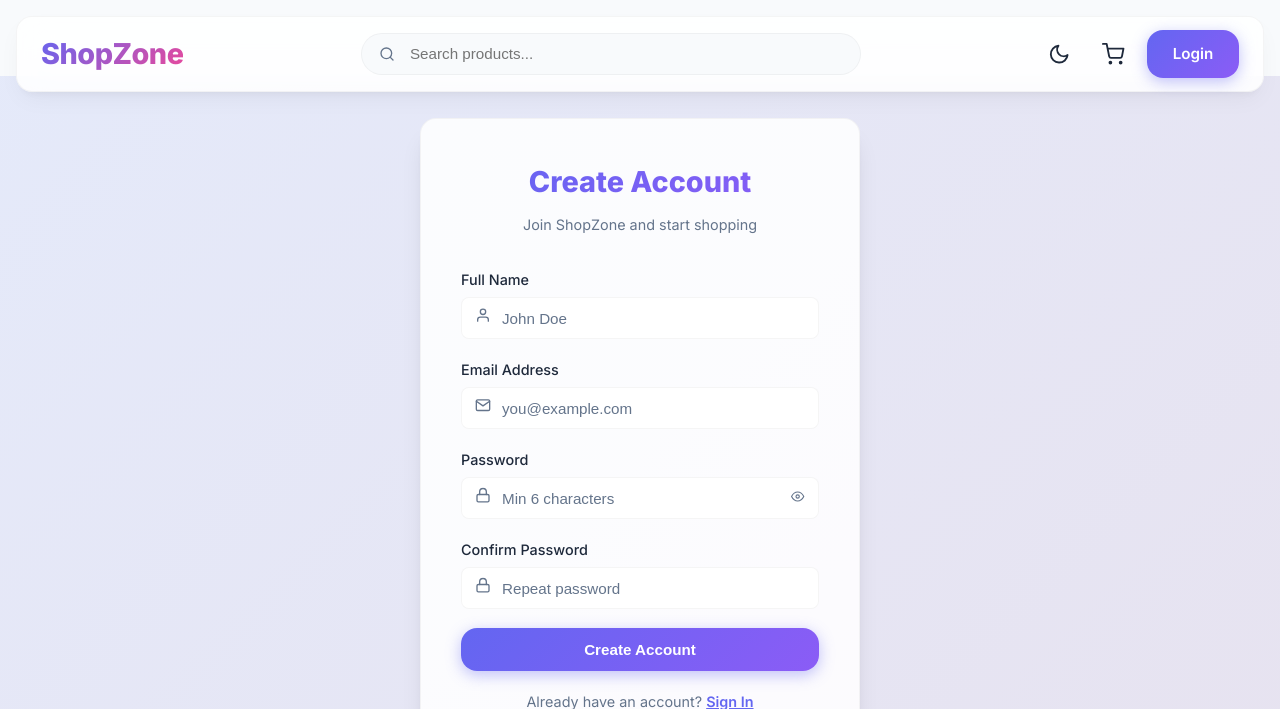
Scenario: Authentication Tests › Registration › should show error when passwords do not match
Type "Test User" into the field with test id "name-input".
click(640, 319); type("Test User")  # box [461,298,819,339]
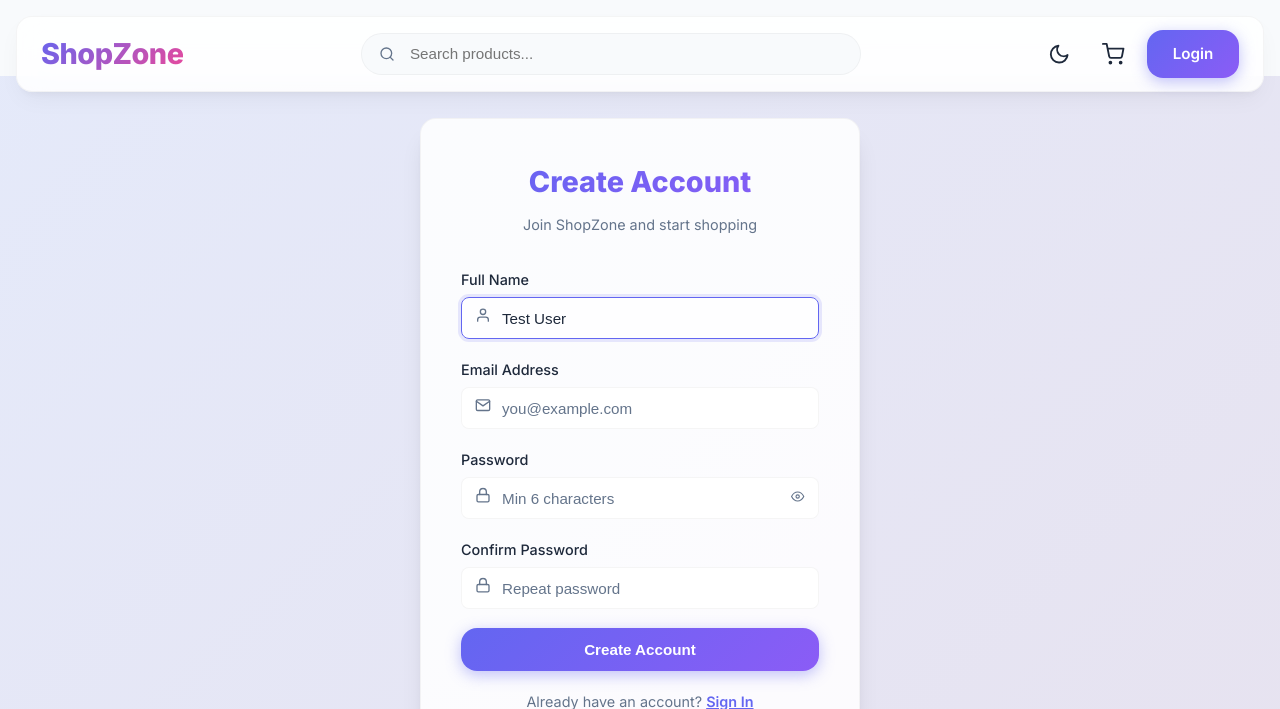
Type "test@example.com" into the field with test id "email-input".
click(640, 409); type("test@example.com")  # box [461,388,819,429]
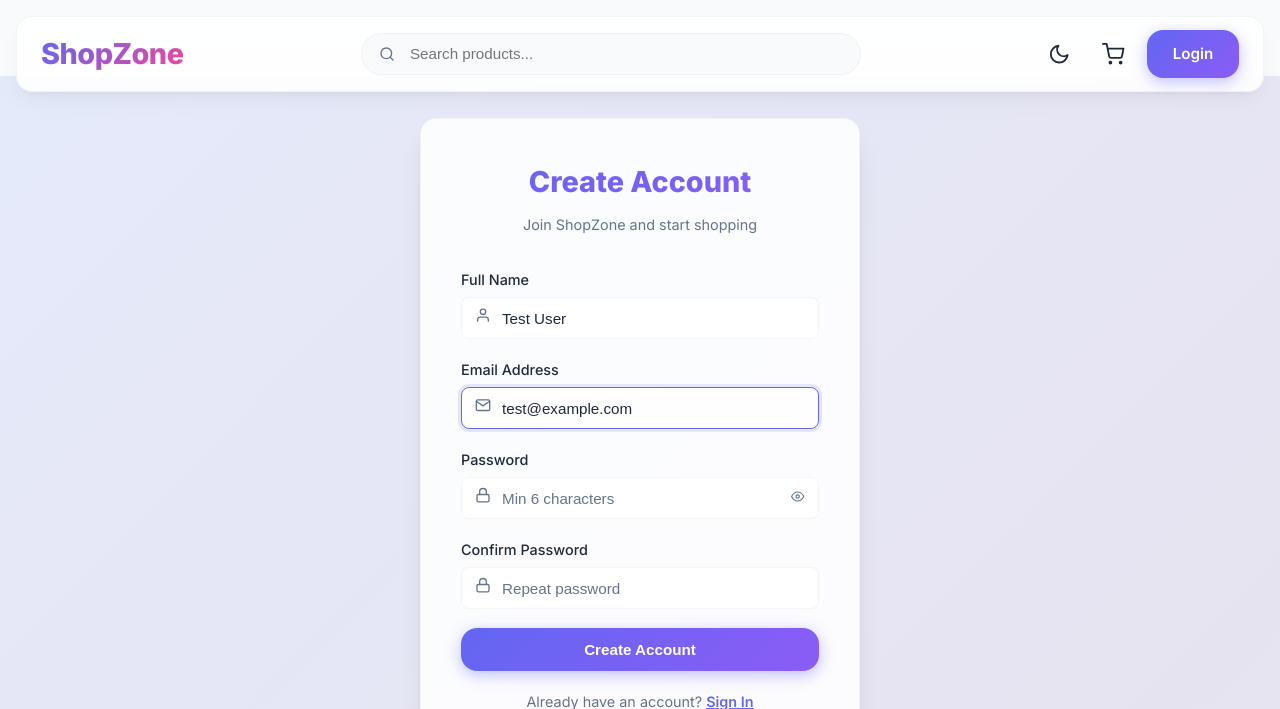
Type "Test@123" into the password field with test id "password-input".
click(640, 499); type("Test@123")  # box [461,478,819,519]
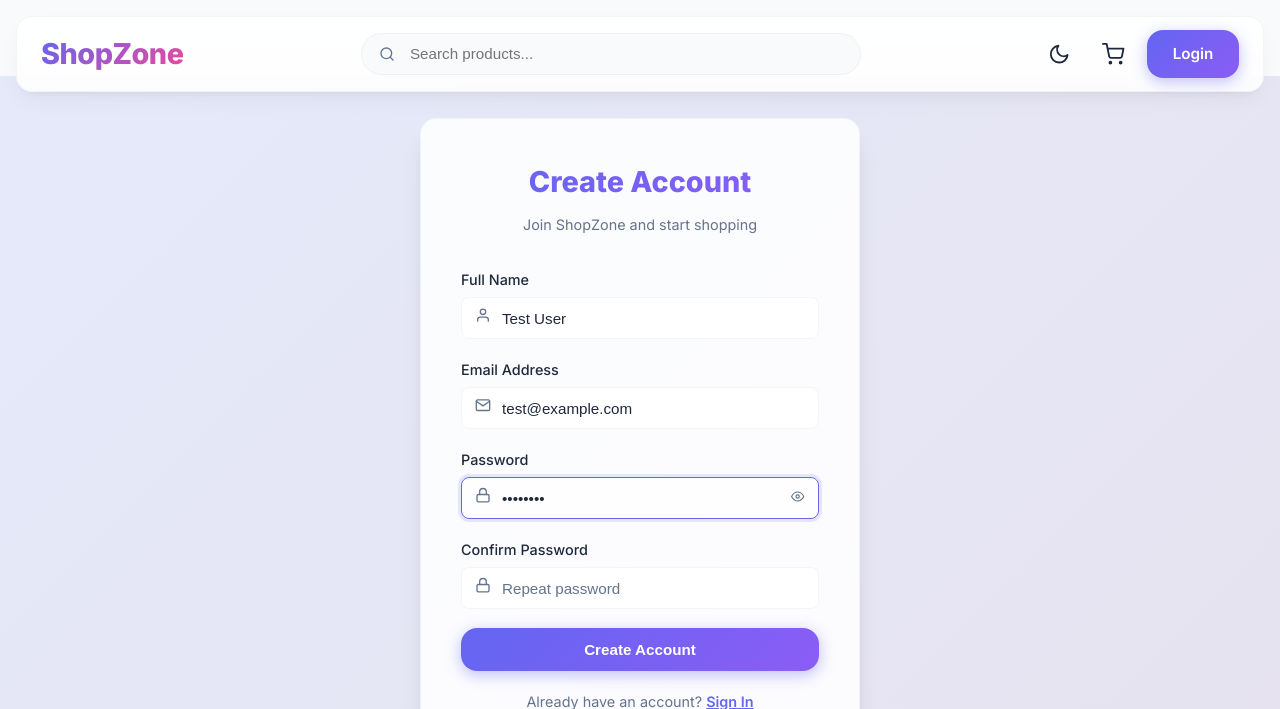
Type "Different@123" into the password field with test id "confirmPassword-input".
click(640, 589); type("Different@123")  # box [461,568,819,609]
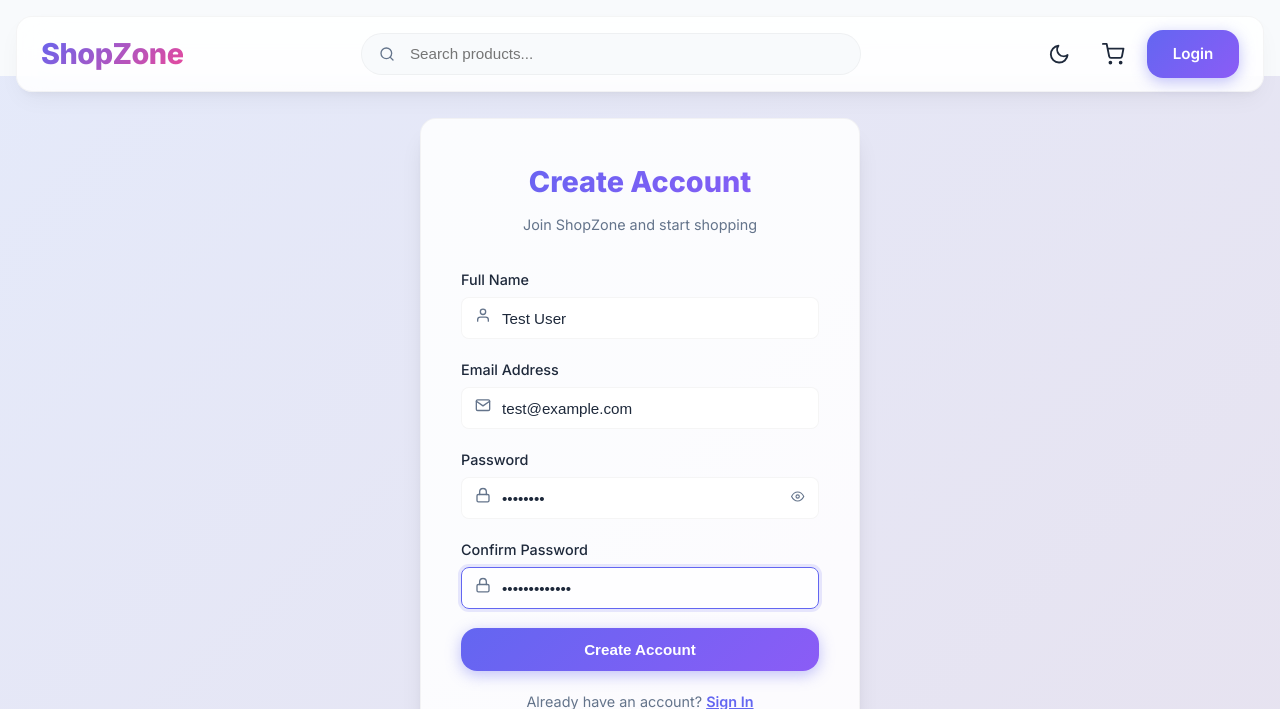
Click the button with test id "register-submit".
click(640, 650)  # box [461,628,819,671]
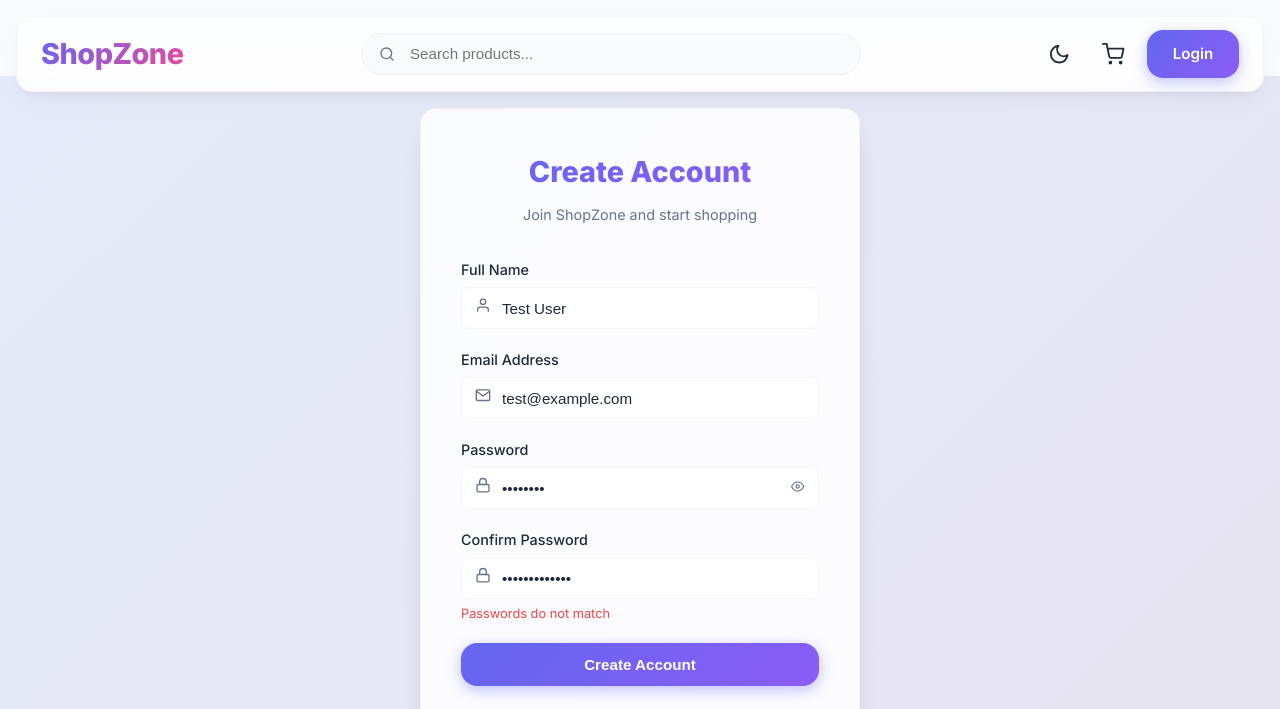
Check: the text with test id "confirmPassword-error" shows "do not match", box [461,606,610,621]
